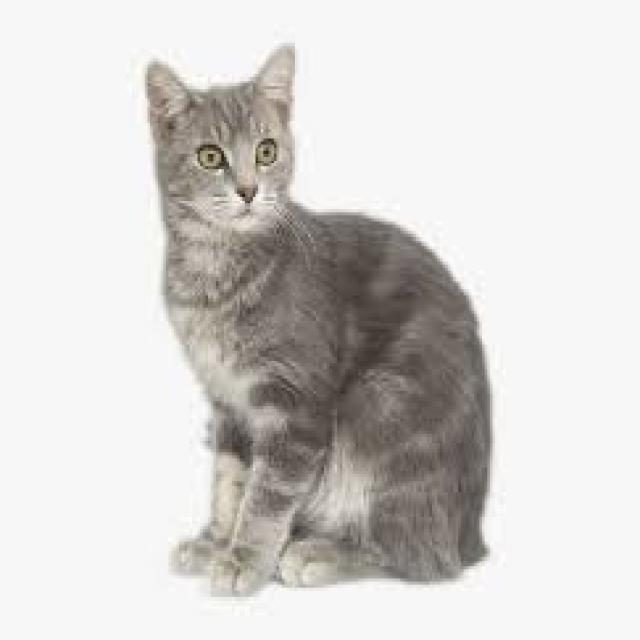Cat: (140, 38, 493, 604)
